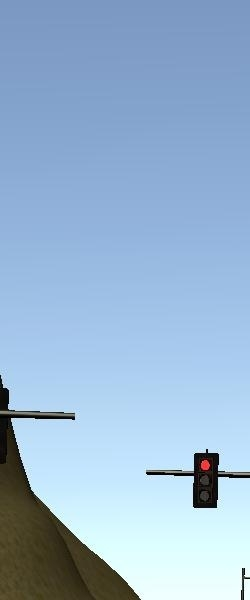Red: (192, 452, 219, 509)
